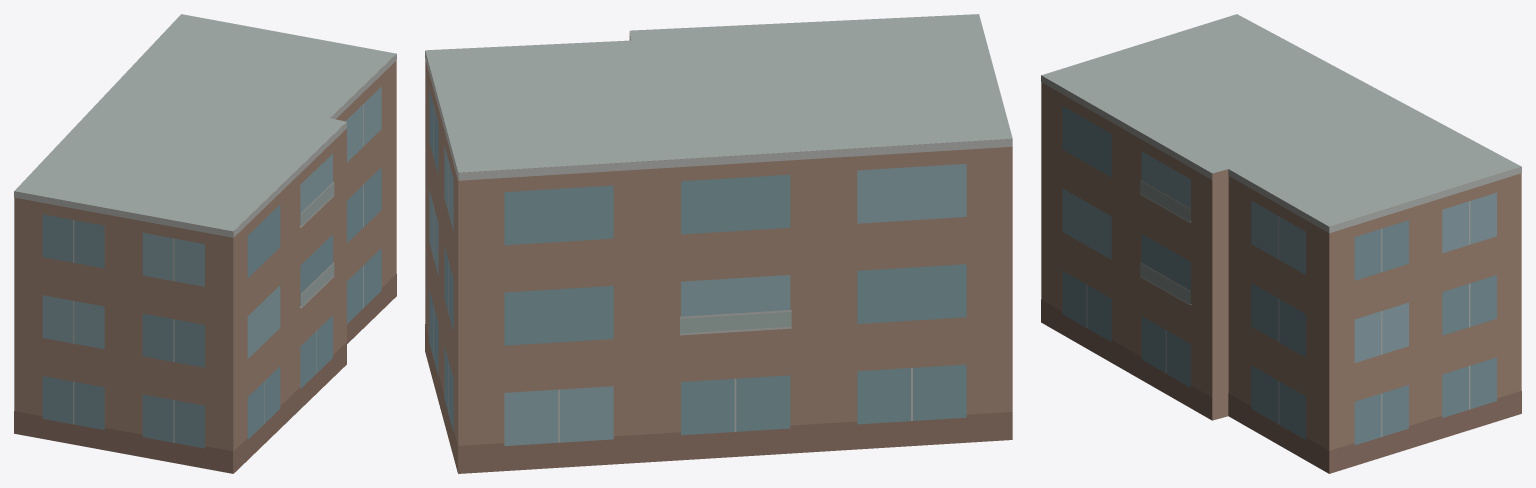
The model's file is survey-upis-33022977.glb.
The picture shows the model from 3 angles, left to right: view 1: azimuth 30°, elevation 25°; view 2: azimuth 150°, elevation 25°; view 3: azimuth 270°, elevation 25°; orthographic projection. The views are drawn at different scales.
Parts seen in each view (by area): view 1: survey-upis-33022977.tmp; view 2: survey-upis-33022977.tmp; view 3: survey-upis-33022977.tmp.
Part boxes in pixels (x1=…): survey-upis-33022977.tmp: x1=14, y1=14, x2=396, y2=473; survey-upis-33022977.tmp: x1=425, y1=14, x2=1012, y2=473; survey-upis-33022977.tmp: x1=1041, y1=14, x2=1521, y2=473.
Size of the model in its own units: 16.91 by 9.15 by 16.14.
